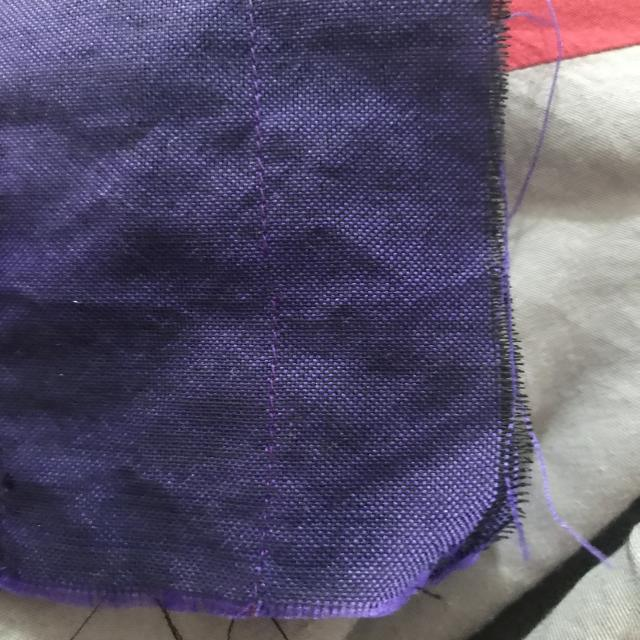good: (239, 62, 274, 207)
